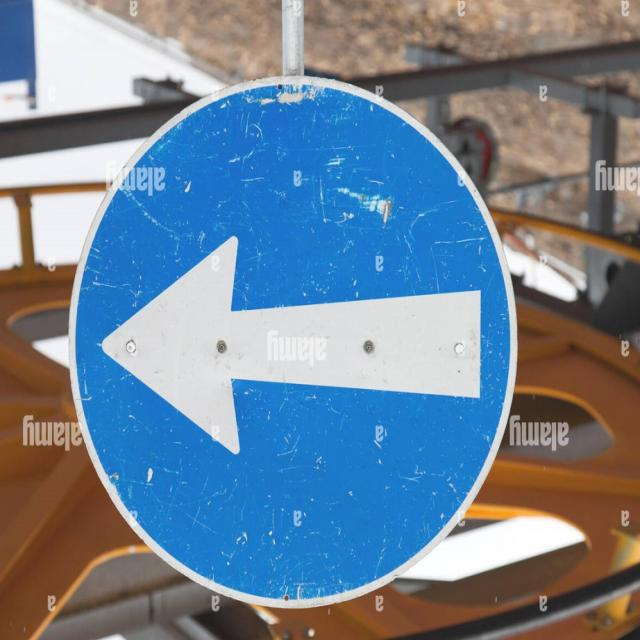Turn Left: (72, 90, 523, 608)
